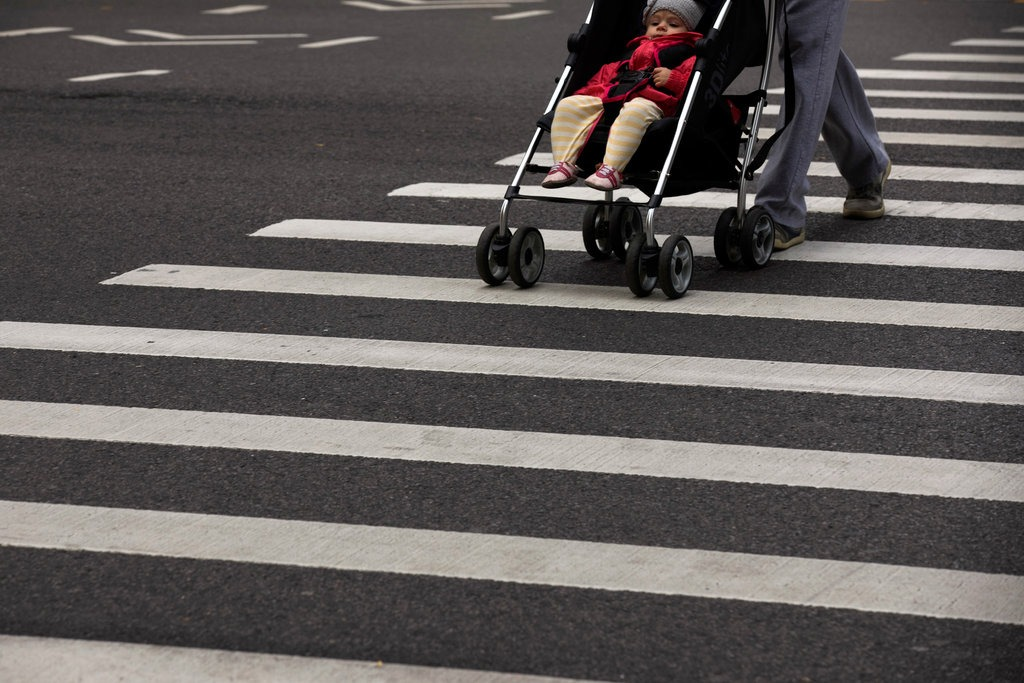crosswalk: (5, 165, 1024, 682)
